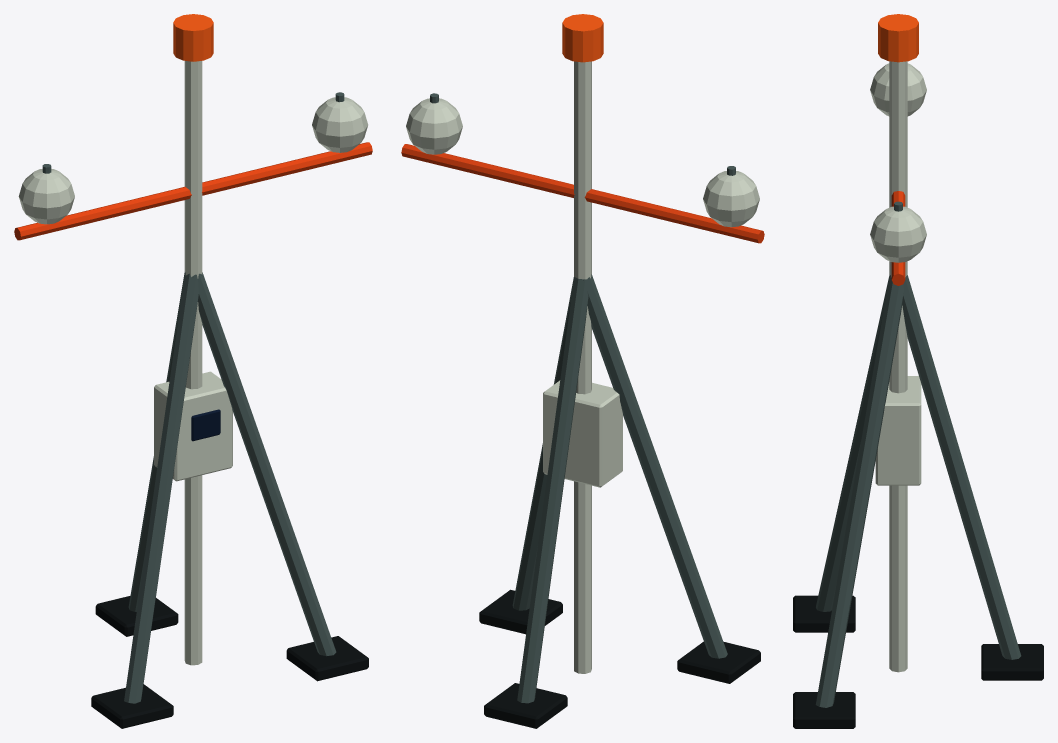
Rendered from SM_MP_Weather_Mast.fbx.
3 renders of one model, left to right at view 1: azimuth 30°, elevation 25°; view 2: azimuth 150°, elevation 25°; view 3: azimuth 270°, elevation 25°, orthographic.
Parts seen in each view (by area): view 1: SM_MP_Weather_Mast; view 2: SM_MP_Weather_Mast; view 3: SM_MP_Weather_Mast.
Boxes of the visible parts, x1=… form: SM_MP_Weather_Mast: x1=14, y1=14, x2=372, y2=728; SM_MP_Weather_Mast: x1=401, y1=14, x2=764, y2=728; SM_MP_Weather_Mast: x1=793, y1=14, x2=1043, y2=728.
Size of the model in its own units: 360 by 220 by 625.
1 material, 1 textured.
